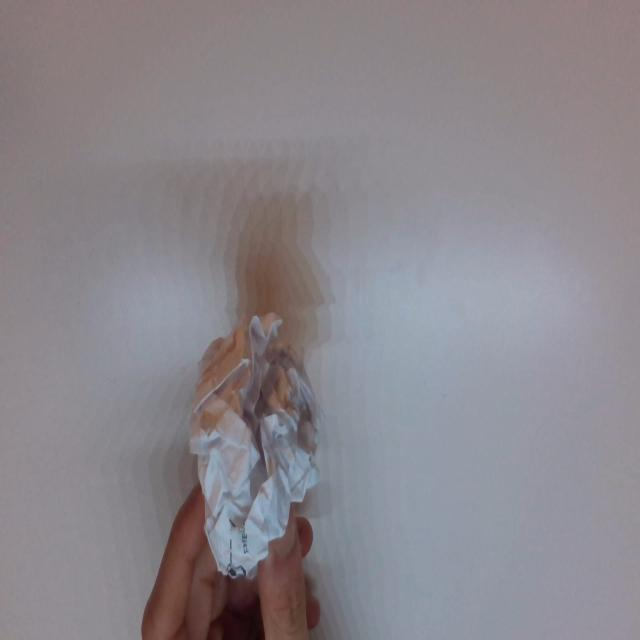Paper: (190, 308, 320, 577)
